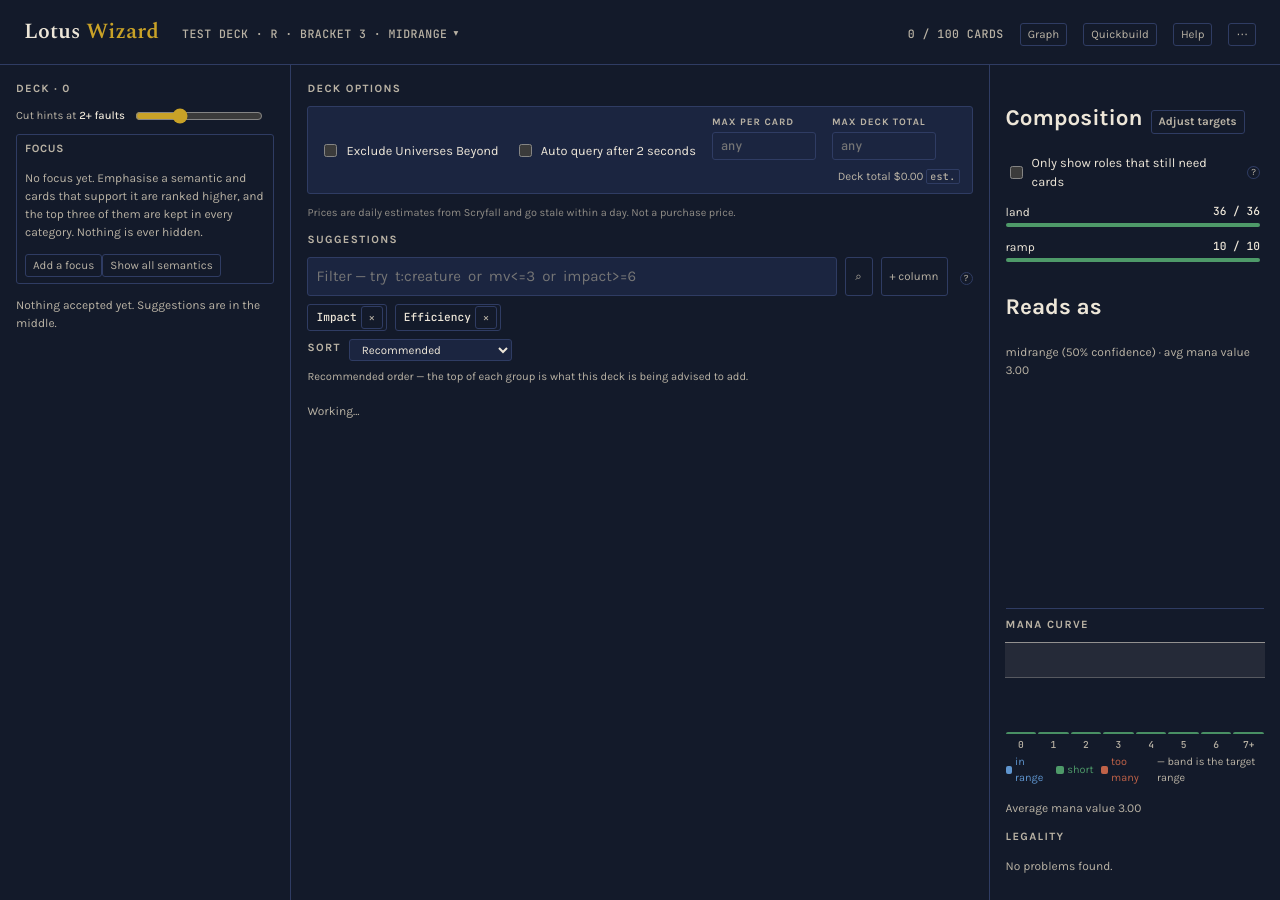
the archetype customiser › opens from the composition panel and shows the preset behind every field
Click the button "Adjust targets": (1198, 122) [1151,110,1245,134]
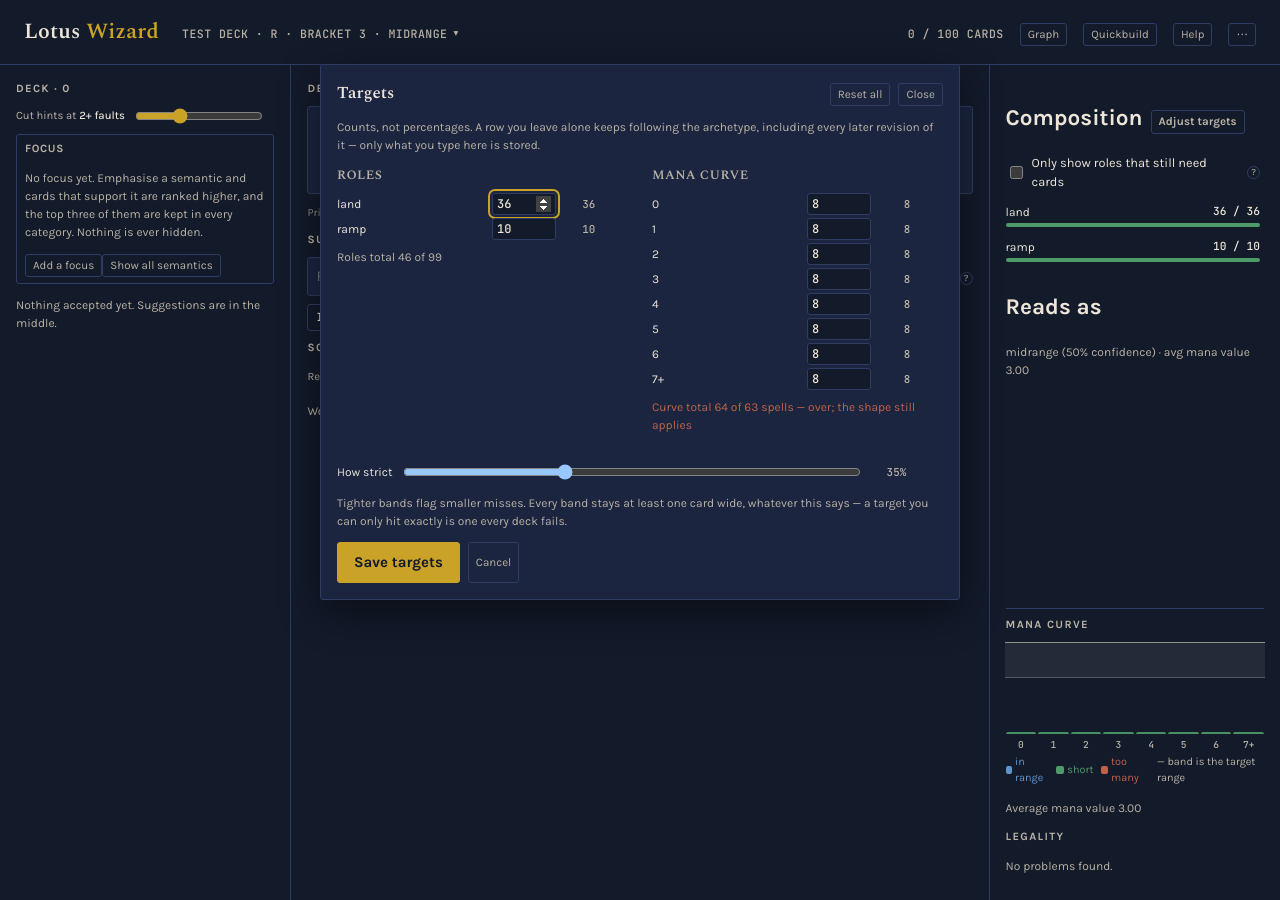
Expected: the number field named "land target" holds "36", [492,194,556,216]
